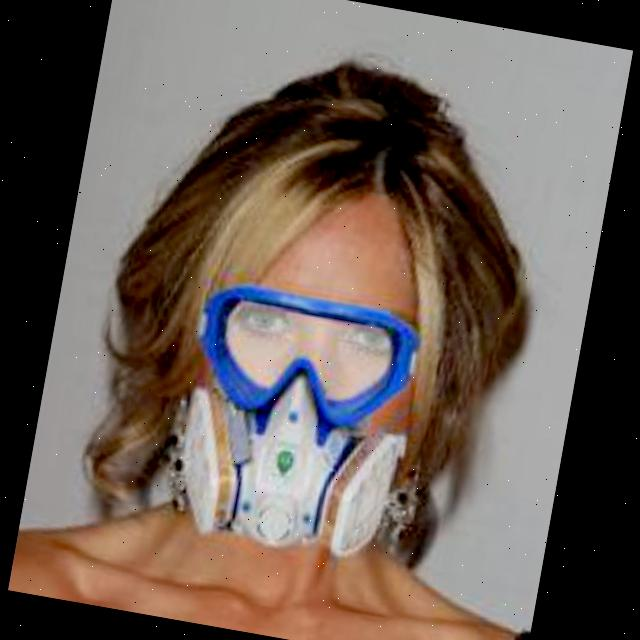suspicion: (122, 104, 534, 585)
